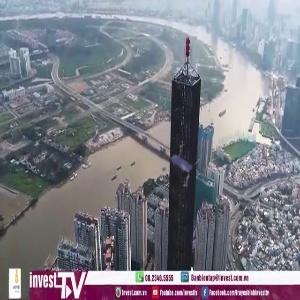drone: (146, 136, 211, 201)
